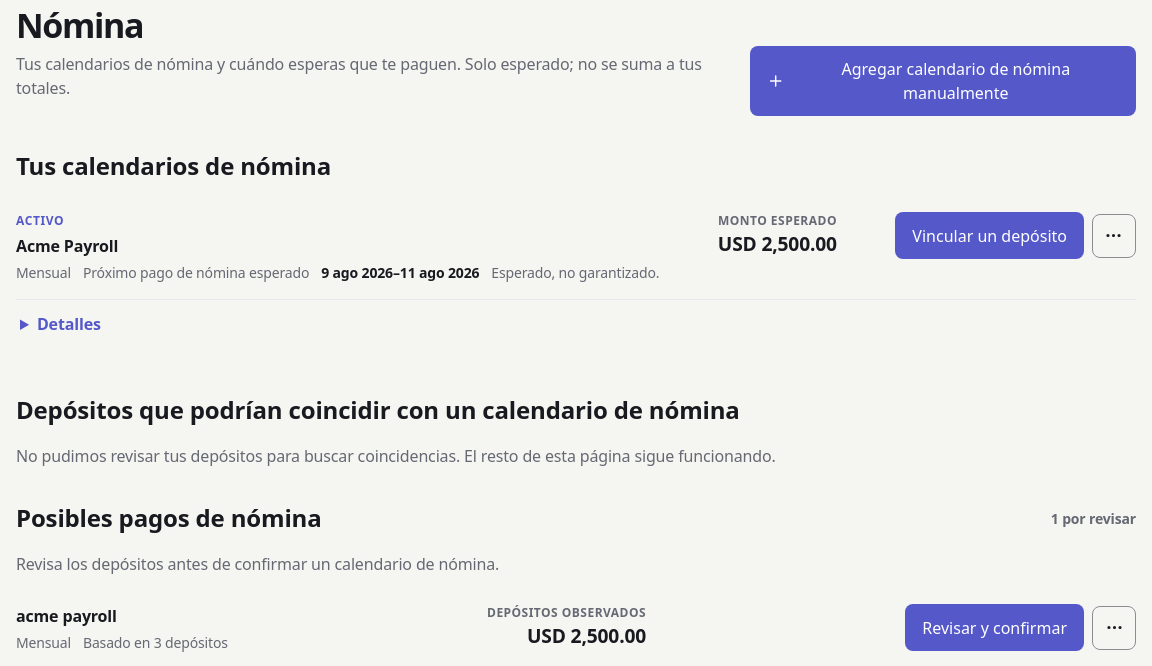
it: Paychecks page in Spanish › shows a localized message when existing cash in cannot be loaded
This screenshot has width=1152, height=666.
Expected: the heading "Tus calendarios de nómina" is shown, [16,148,331,184]
What coordinates should you click on to do the following:
click the button with aria-label "Vincular un depósito a Acme Payroll"
I would click on:
 (990, 236)
Its box is [895,212,1084,259].
(page scrolled)
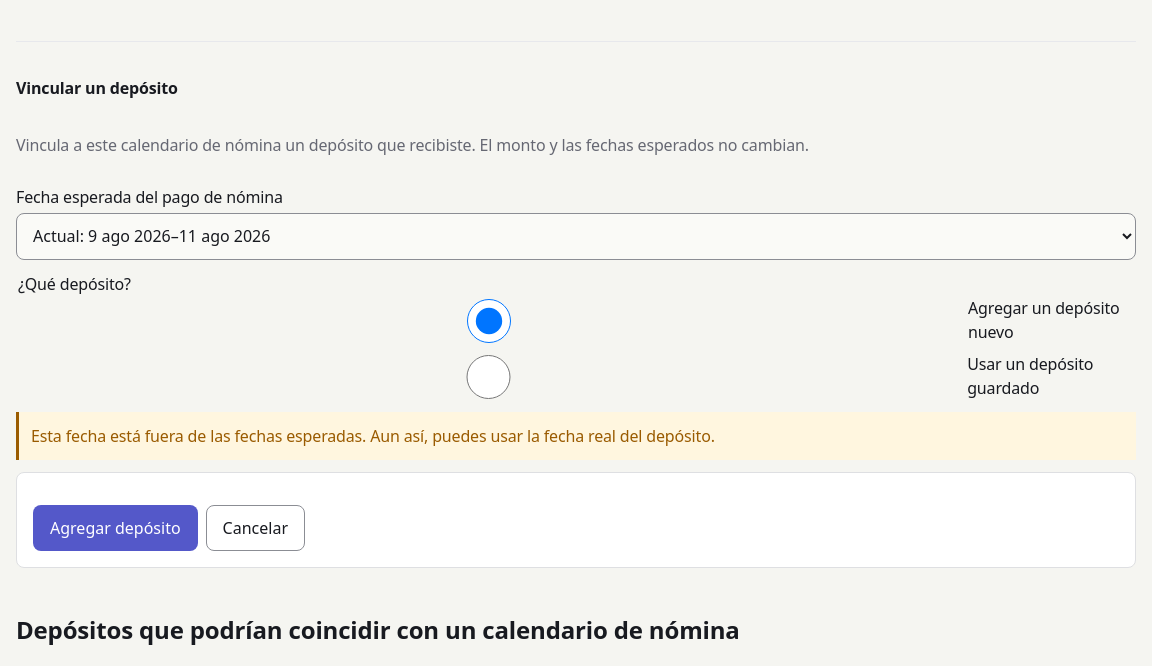
What coordinates should you click on to do the following:
click the radio button labelled "Usar un depósito guardado"
I would click on:
 (489, 377)
Its box is [21,355,956,399].
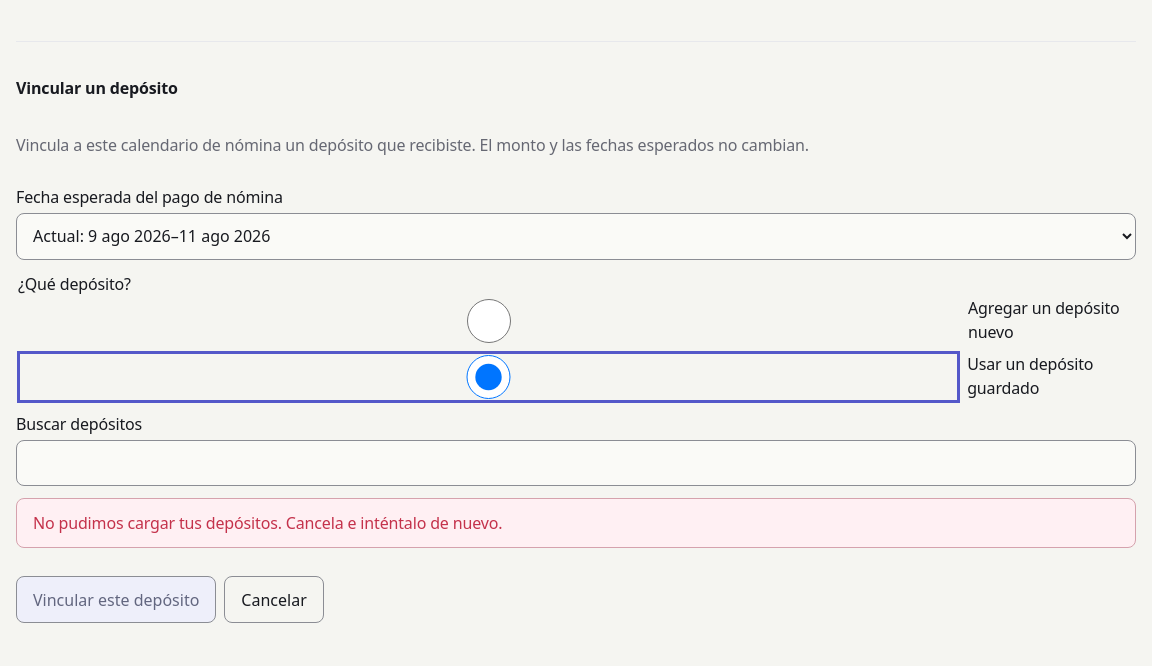
Expected: the message reads "No pudimos cargar tus depósitos. Cancela e inténtalo de nuevo.", [33,512,502,534]
